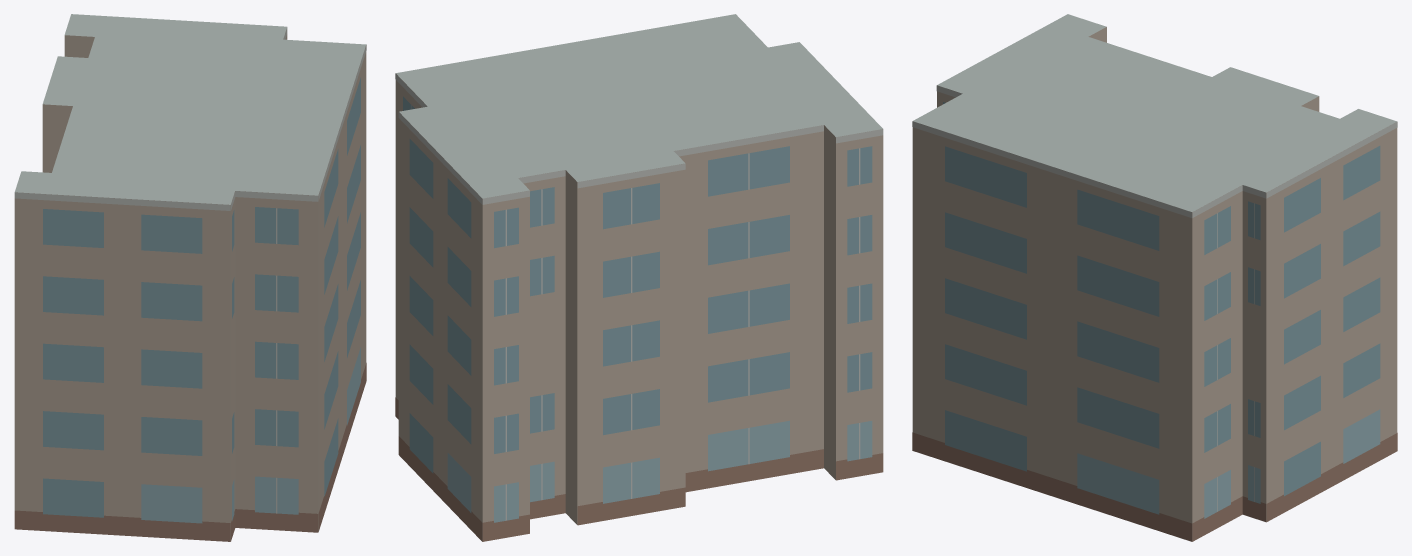
Rendered from survey-upis-32613198.glb.
3 renders of one model, left to right at view 1: azimuth 30°, elevation 25°; view 2: azimuth 150°, elevation 25°; view 3: azimuth 270°, elevation 25°, orthographic. The views are drawn at different scales.
Parts seen in each view (by area): view 1: survey-upis-32613198.tmp; view 2: survey-upis-32613198.tmp; view 3: survey-upis-32613198.tmp.
Part boxes in pixels (x1=…): survey-upis-32613198.tmp: x1=14, y1=14, x2=366, y2=541; survey-upis-32613198.tmp: x1=395, y1=14, x2=883, y2=541; survey-upis-32613198.tmp: x1=912, y1=14, x2=1397, y2=541.
Bounding box in the file's own units: 17.16 × 13.3 × 17.74.
